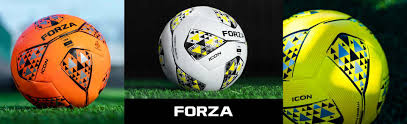football ball: (281, 6, 397, 117), (4, 11, 113, 110), (151, 5, 250, 93)
